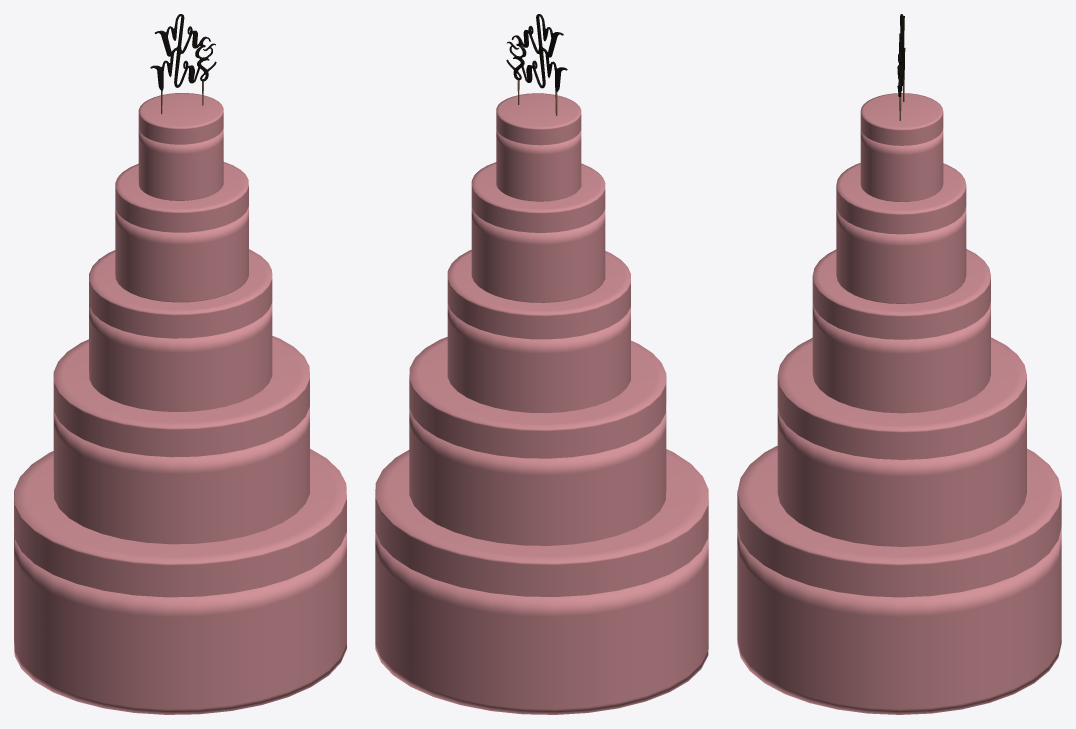
The model's file is 5-tier-blush-none-mrms.glb.
The picture shows the model from 3 angles, left to right: view 1: azimuth 30°, elevation 25°; view 2: azimuth 150°, elevation 25°; view 3: azimuth 270°, elevation 25°; orthographic projection.
Visible parts, largest first — view 1: 3.004, 3.003, 3.002, 2.001, 1.001, mrms.002; view 2: 3.004, 3.003, 3.002, 2.001, 1.001, mrms.002; view 3: 3.004, 3.003, 3.002, 2.001, 1.001, mrms.002.
Part boxes in pixels (x1,y1,x2,y2): 3.004: (14,449,346,714); 3.003: (53,336,309,544); 3.002: (89,249,272,411); 2.001: (115,162,248,302); 1.001: (138,93,223,200); mrms.002: (150,14,216,114); 3.004: (375,449,708,714); 3.003: (409,337,666,545); 3.002: (447,250,630,413); 2.001: (471,162,605,302); 1.001: (496,93,581,201); mrms.002: (506,14,567,115); 3.004: (737,445,1061,714); 3.003: (777,337,1026,546); 3.002: (812,249,990,413); 2.001: (836,163,966,303); 1.001: (860,93,943,201); mrms.002: (897,14,905,120).
Bounding box in the file's own units: 5.75 × 11.87 × 5.54.
